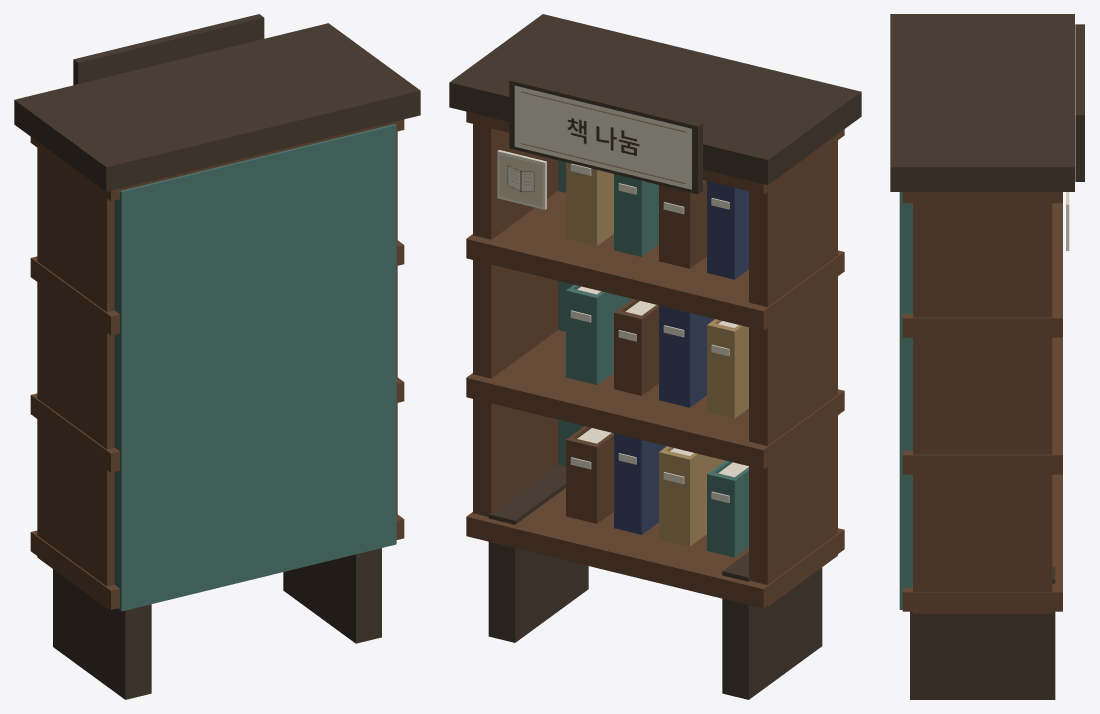
File: W07_Book_Exchange.fbx
3 views of the same model, side by side, from view 1: azimuth 30°, elevation 25°; view 2: azimuth 150°, elevation 25°; view 3: azimuth 270°, elevation 25° (orthographic).
Parts seen in each view (by area): view 1: Cabinet, Front_Label; view 2: Cabinet, Books, Front_Label, Book_Exchange_Icon; view 3: Cabinet, Front_Label.
Boxes of the visible parts, x1=… form: Cabinet: x1=14, y1=23, x2=420, y2=699; Front_Label: x1=73, y1=14, x2=264, y2=85; Cabinet: x1=449, y1=14, x2=861, y2=699; Books: x1=566, y1=162, x2=748, y2=557; Front_Label: x1=509, y1=77, x2=702, y2=194; Book_Exchange_Icon: x1=497, y1=150, x2=546, y2=209; Cabinet: x1=890, y1=14, x2=1074, y2=699; Front_Label: x1=1075, y1=24, x2=1084, y2=181.
Size of the model in its own units: 1.2 by 2.07 by 0.645.
Materials: 7 (1 with a texture image).
